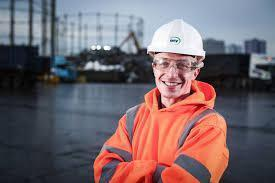helmet: (147, 18, 205, 57)
